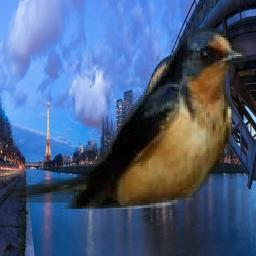Swallow: (6, 29, 247, 210)
